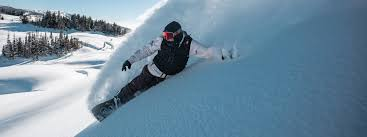snowboard: (91, 94, 124, 123)
